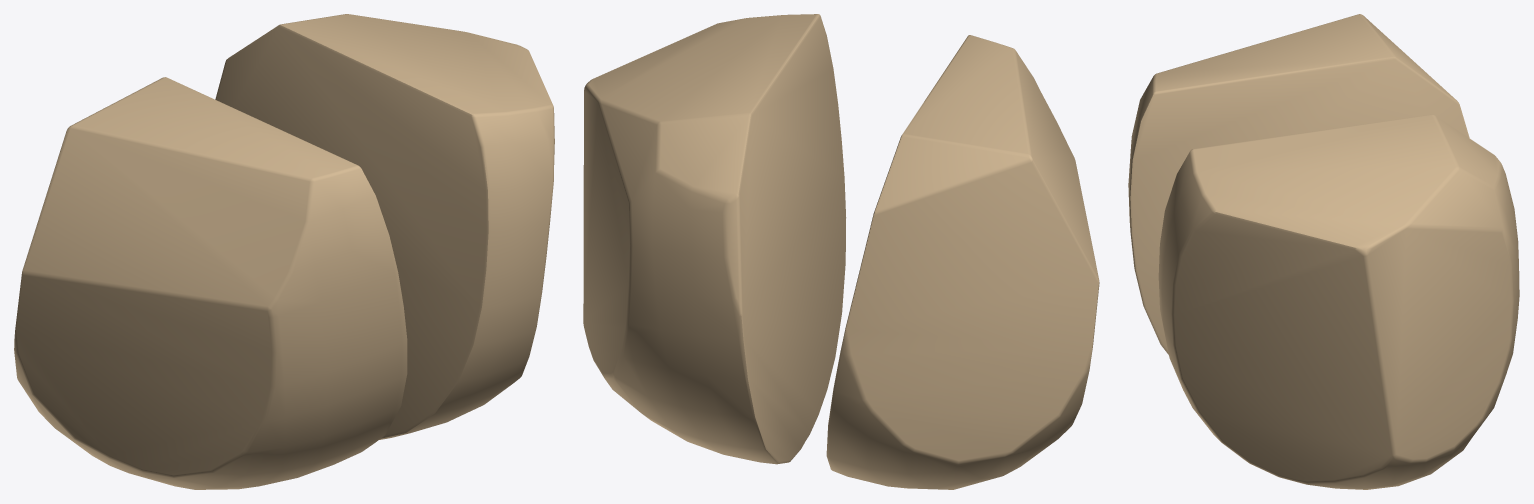
Rendered from rock_split_02.glb.
3 views of the same model, side by side, from view 1: azimuth 30°, elevation 25°; view 2: azimuth 150°, elevation 25°; view 3: azimuth 270°, elevation 25° (orthographic). The views are drawn at different scales.
Parts seen in each view (by area): view 1: rock_split_02; view 2: rock_split_02; view 3: rock_split_02.
Part boxes in pixels (bbox=[...]): rock_split_02: bbox=[14, 14, 554, 489]; rock_split_02: bbox=[583, 14, 1099, 489]; rock_split_02: bbox=[1128, 14, 1519, 489].
Size of the model in its own units: 2.5 by 1.73 by 1.79.
